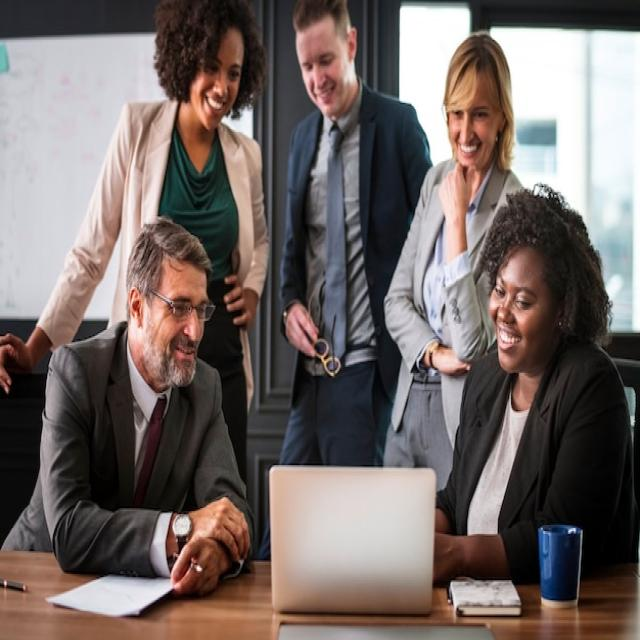adult: (0, 1, 269, 479), (18, 216, 254, 600), (434, 191, 624, 598), (275, 6, 426, 471), (384, 29, 524, 499)
